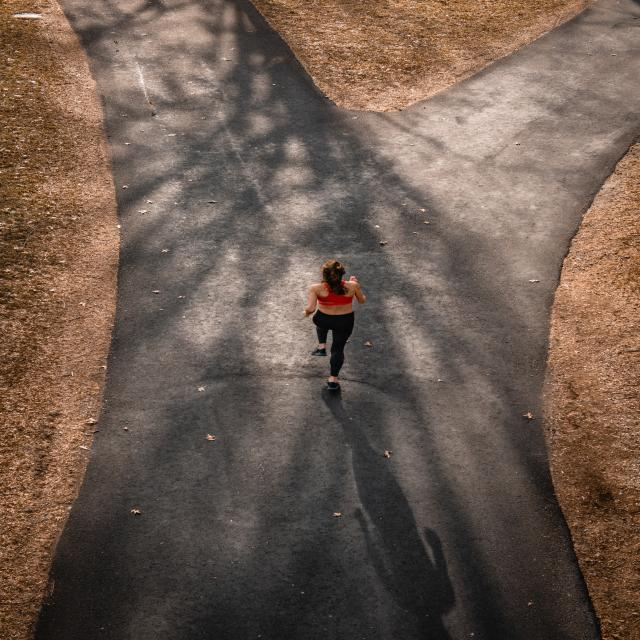running: (302, 256, 367, 394)
